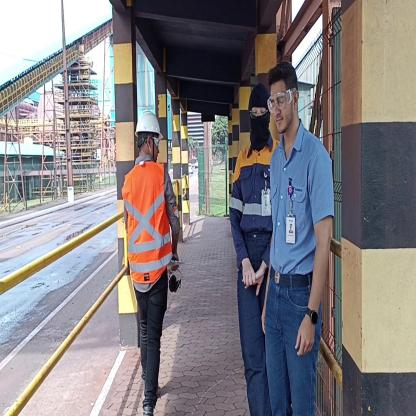Balaclava: (248, 86, 271, 146)
Capacete: (137, 106, 163, 136)
Operacional: (230, 142, 272, 233)
colete: (124, 165, 174, 275)
